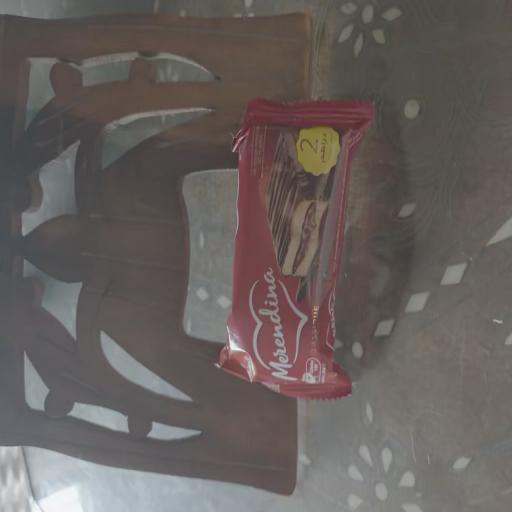merendina: (213, 78, 401, 471)
